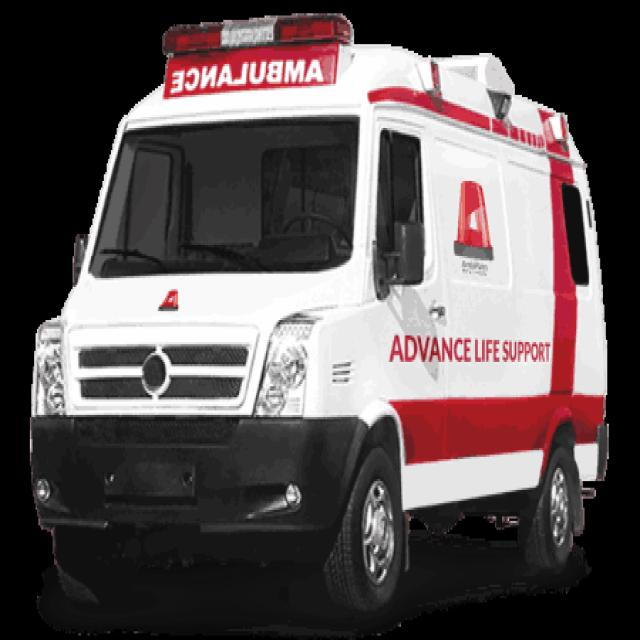emergency: (30, 16, 609, 610)
